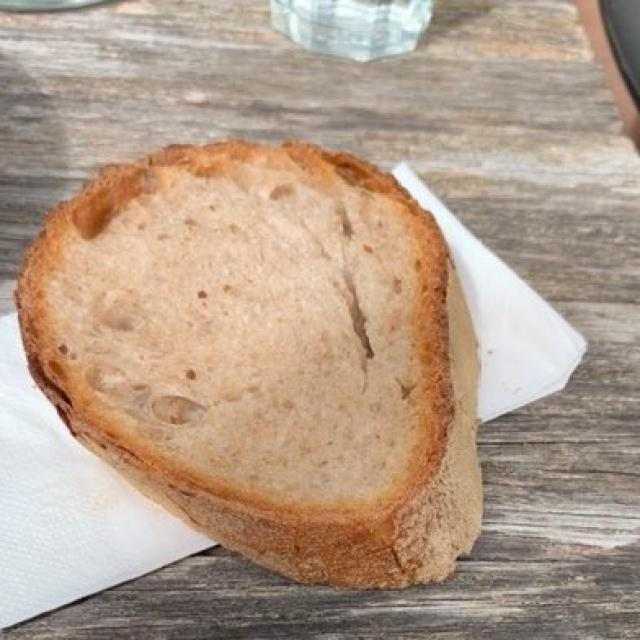Bread: (9, 118, 495, 597)
